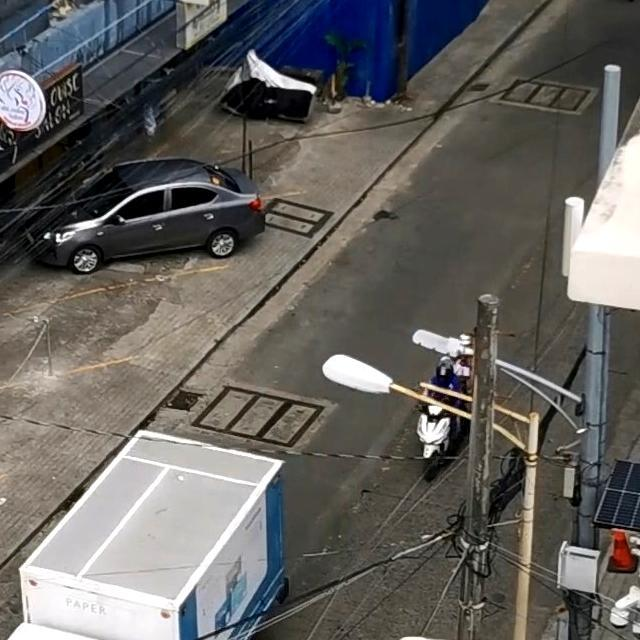Car: (27, 157, 262, 270)
